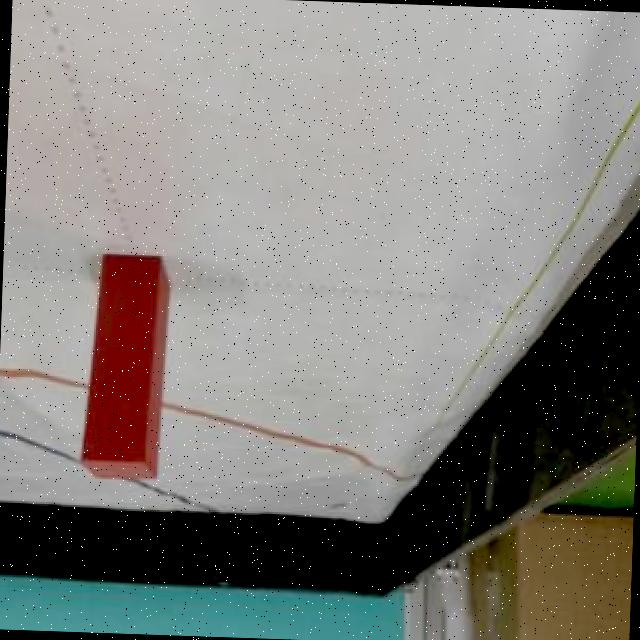redbox: (79, 250, 170, 482)
